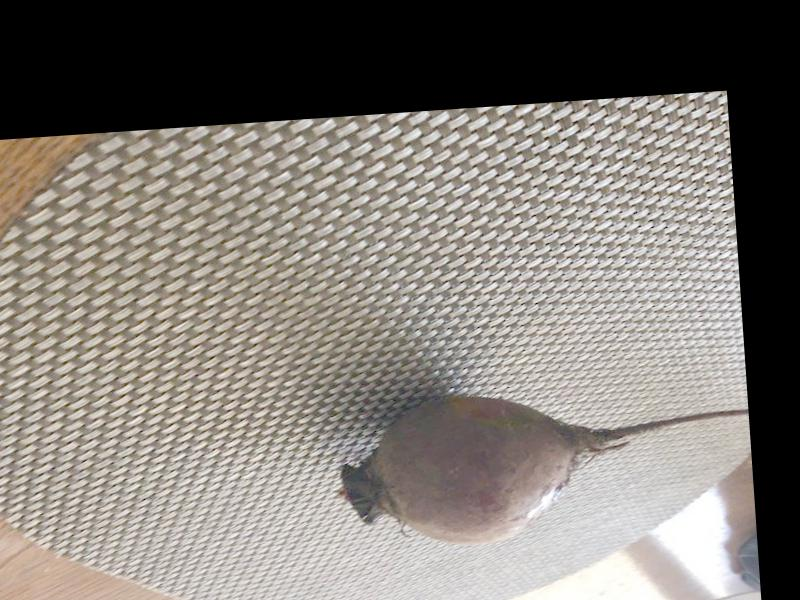Beet: (335, 379, 751, 551)
